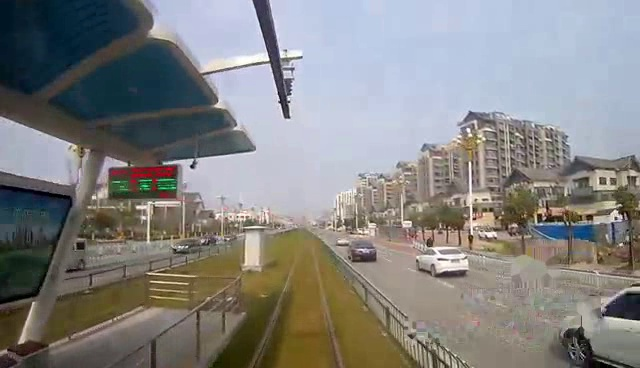car: (557, 282, 640, 368), (412, 245, 471, 277), (163, 234, 208, 253), (346, 241, 378, 263)
